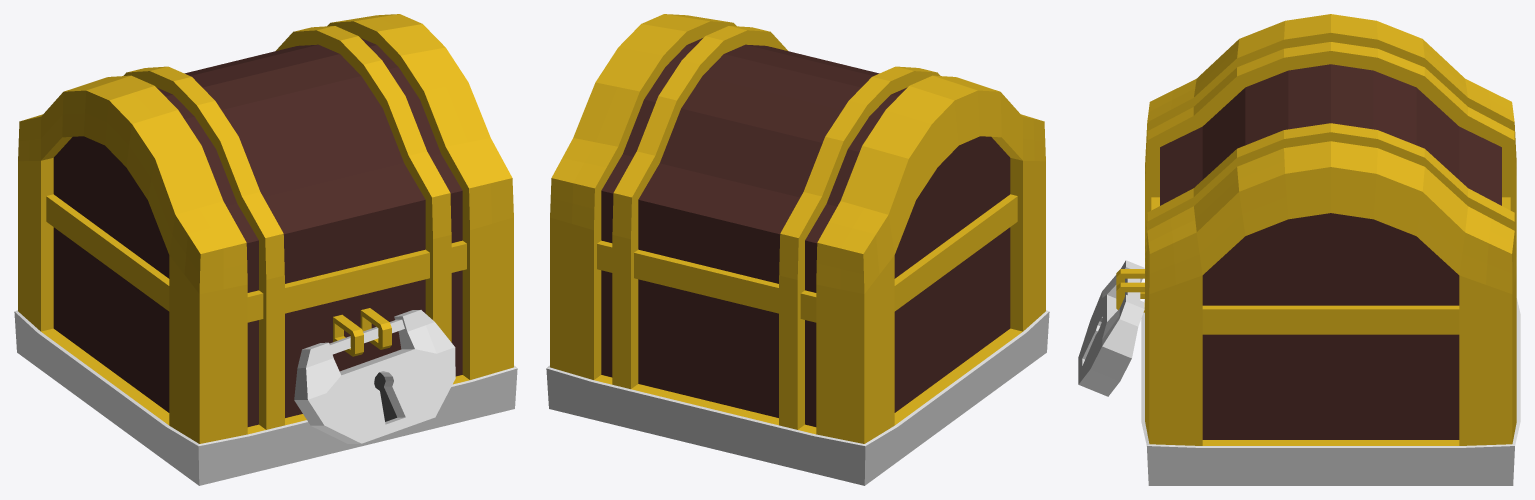
File: TreasureBox.glb
3 renders of one model, left to right at view 1: azimuth 30°, elevation 25°; view 2: azimuth 150°, elevation 25°; view 3: azimuth 270°, elevation 25°, orthographic.
Visible parts, largest first — view 1: Cube; view 2: Cube; view 3: Cube.
Boxes of the visible parts, <box> form: Cube: <box>14,14,517,485</box>; Cube: <box>546,14,1049,485</box>; Cube: <box>1078,14,1520,485</box>.
Bounding box in the file's own units: 1.11 × 1.04 × 1.29.
